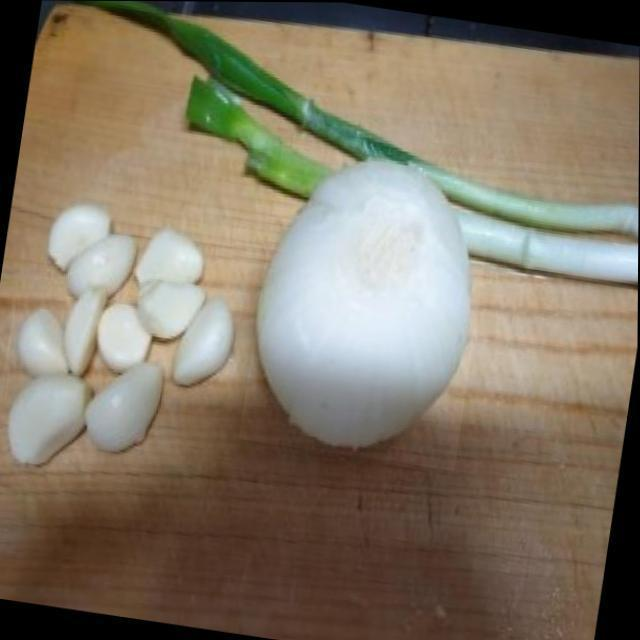Onion: (239, 143, 498, 470)
